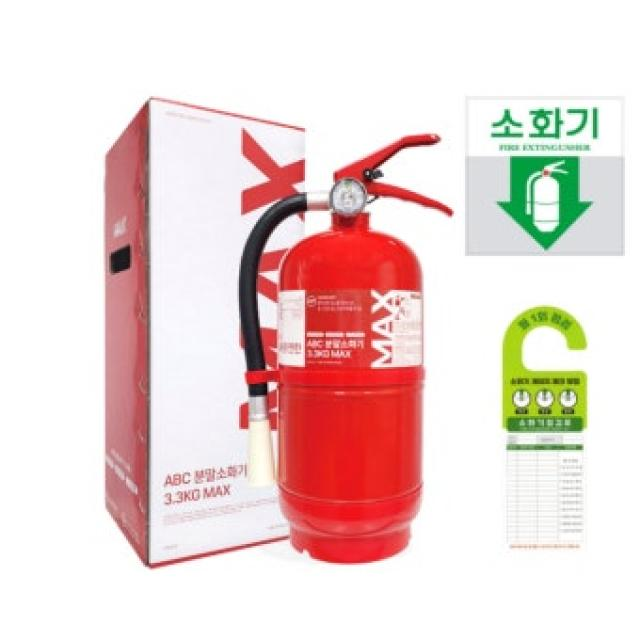pressure gauge: (330, 179, 367, 216)
